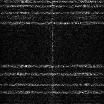wifi: (1, 64, 104, 68), (1, 71, 104, 75), (1, 82, 104, 86), (1, 90, 104, 94), (1, 20, 104, 24), (1, 11, 104, 14), (1, 4, 104, 7), (1, 1, 104, 3)
